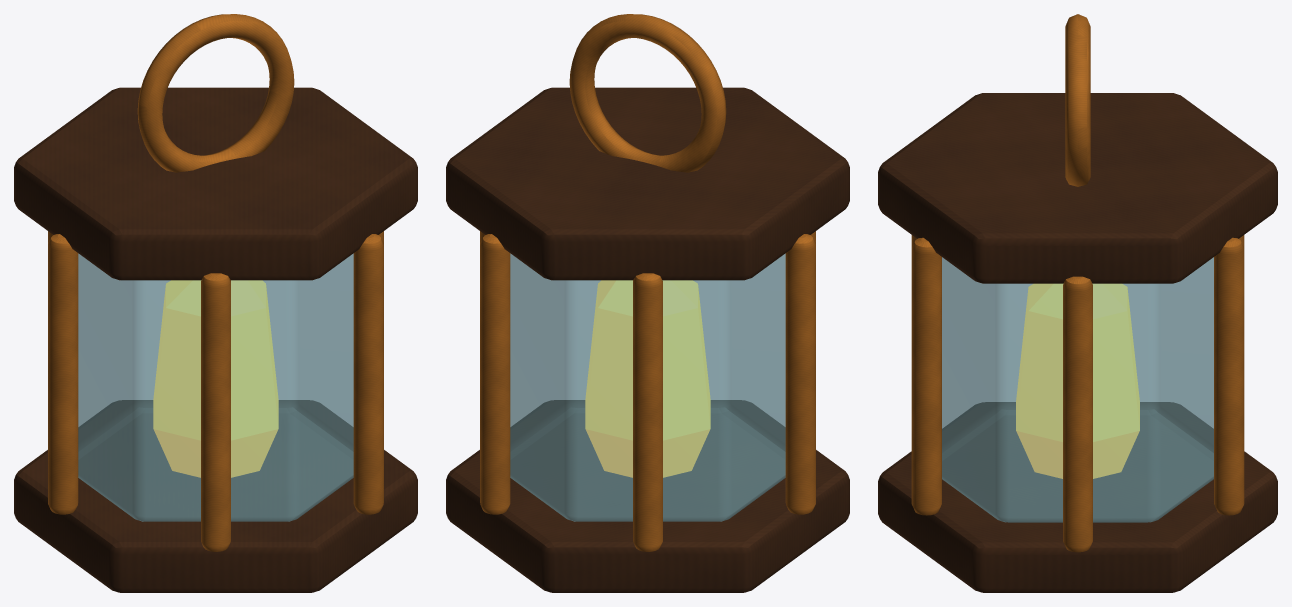
File: relic_05.glb
The picture shows the model from 3 angles, left to right: view 1: azimuth 30°, elevation 25°; view 2: azimuth 150°, elevation 25°; view 3: azimuth 270°, elevation 25°; orthographic projection.
Parts seen in each view (by area): view 1: Patinated_bronze, Smoked_crystal, Brushed_gold, Warm_amber; view 2: Patinated_bronze, Smoked_crystal, Brushed_gold, Warm_amber; view 3: Patinated_bronze, Smoked_crystal, Brushed_gold, Warm_amber.
Boxes of the visible parts, x1,y1,x2,y2 form: Patinated_bronze: [14, 87, 417, 592]; Smoked_crystal: [78, 253, 353, 521]; Brushed_gold: [48, 14, 383, 551]; Warm_amber: [153, 280, 278, 477]; Patinated_bronze: [446, 87, 849, 592]; Smoked_crystal: [510, 253, 785, 521]; Brushed_gold: [480, 14, 815, 551]; Warm_amber: [585, 280, 710, 477]; Patinated_bronze: [878, 93, 1277, 592]; Smoked_crystal: [942, 257, 1213, 522]; Brushed_gold: [911, 14, 1244, 552]; Warm_amber: [1016, 283, 1139, 478].
Bounding box in the file's own units: 0.478 × 0.696 × 0.5037.
Materials: 4 (2 with a texture image).
